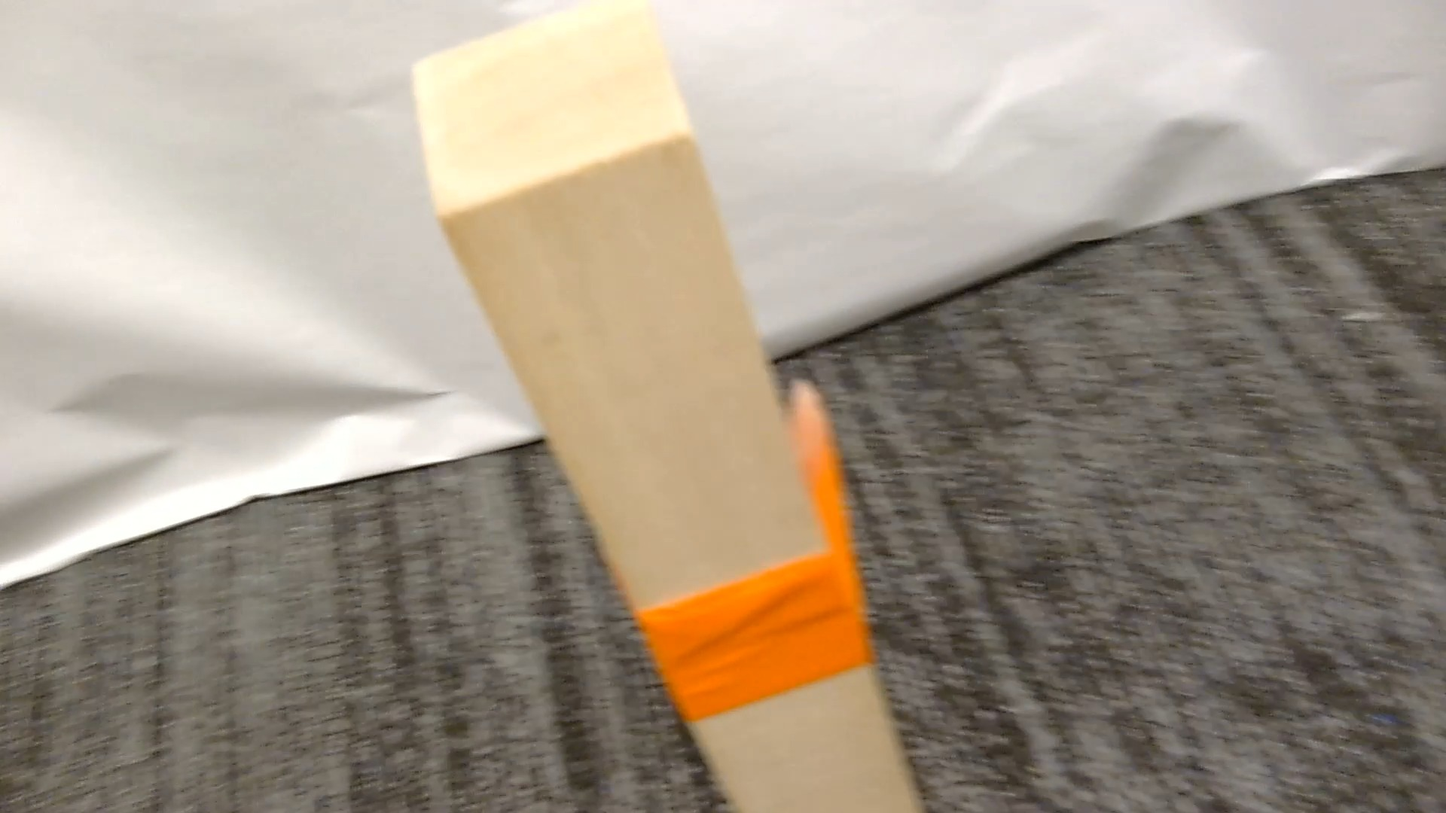Wooden Block: (414, 0, 921, 812)
